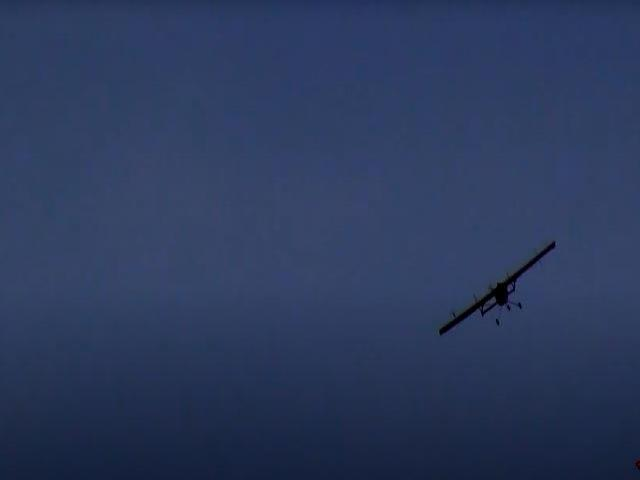iha: (439, 241, 557, 335)
